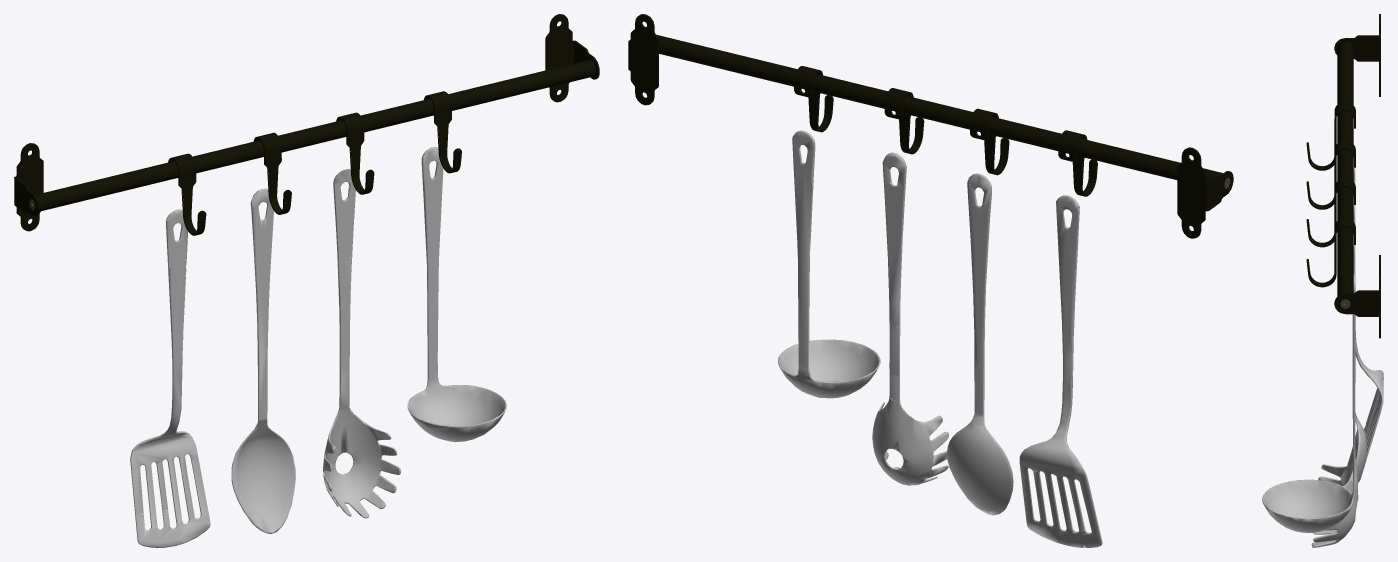
3 views of the same model, side by side, from view 1: azimuth 30°, elevation 25°; view 2: azimuth 150°, elevation 25°; view 3: azimuth 270°, elevation 25° (orthographic). The views are drawn at different scales.
Parts seen in each view (by area): view 1: grunka-4.001, hultarp-rail-60.001, hultarp-hook.003, hultarp-hook.001, hultarp-hook.004, hultarp-hook.002; view 2: grunka-4.001, hultarp-rail-60.001, hultarp-hook.004, hultarp-hook.002, hultarp-hook.001, hultarp-hook.003; view 3: grunka-4.001, hultarp-rail-60.001, hultarp-hook.004, hultarp-hook.003, hultarp-hook.001, hultarp-hook.002.
Part boxes in pixels (x1,y1,x2,y2): grunka-4.001: (130,147,506,547); hultarp-rail-60.001: (14,14,599,231); hultarp-hook.003: (336,112,374,194); hultarp-hook.001: (168,153,206,235); hultarp-hook.004: (424,91,461,173); hultarp-hook.002: (253,132,291,214); grunka-4.001: (778,130,1102,547); hultarp-rail-60.001: (628,14,1233,238); hultarp-hook.004: (794,66,833,132); hultarp-hook.002: (970,108,1009,175); hultarp-hook.001: (1058,130,1097,196); hultarp-hook.003: (884,88,924,154); grunka-4.001: (1262,157,1383,547); hultarp-rail-60.001: (1334,14,1380,338); hultarp-hook.004: (1306,218,1355,287); hultarp-hook.003: (1306,178,1355,247); hultarp-hook.001: (1306,101,1355,170); hultarp-hook.002: (1306,140,1355,209).
Size of the model in its own units: 0.6 by 0.4347 by 0.1205.
6 materials, 6 textured.
